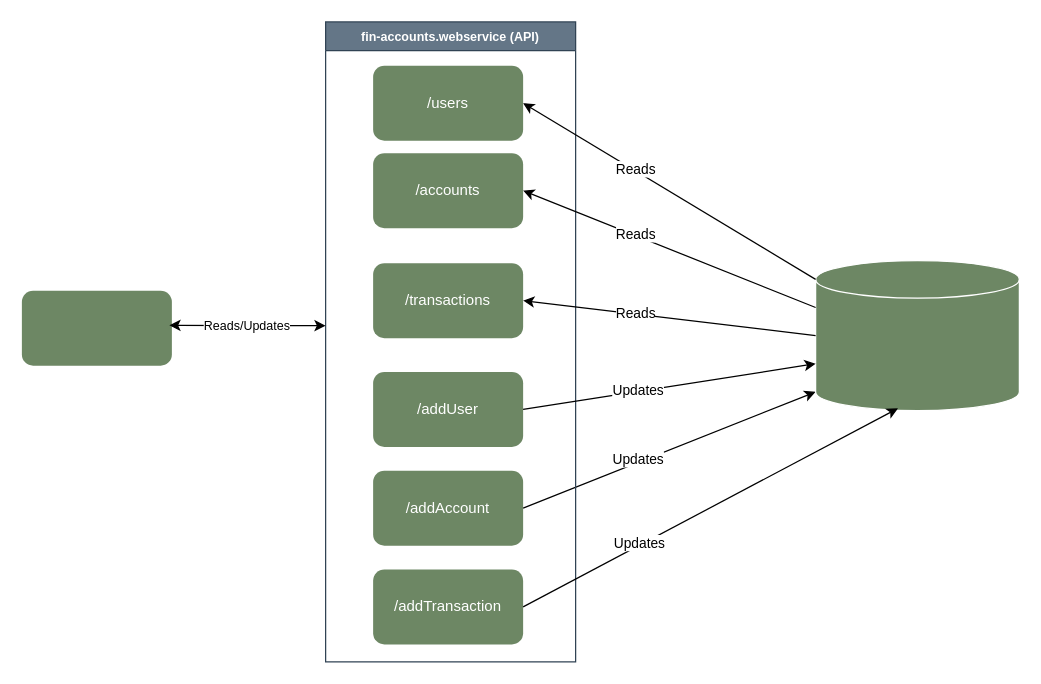
The diagram is 1041 pixels wide and 684 high, and some of its shapes have lost their labels. The centre of each missing label's shape, as x and y in pixels:
Fin Frontend Application: the point at 96,327
MySQL Fin Database: the point at 916,335
